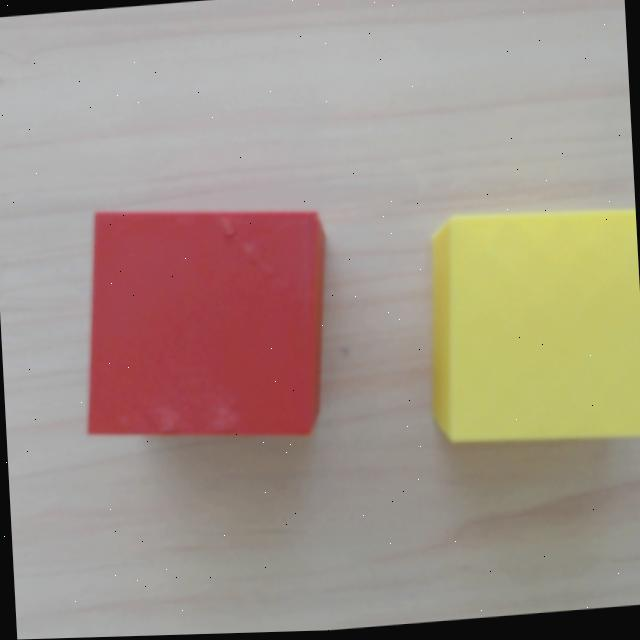Kubus-Merah-505050: (88, 213, 323, 435)
